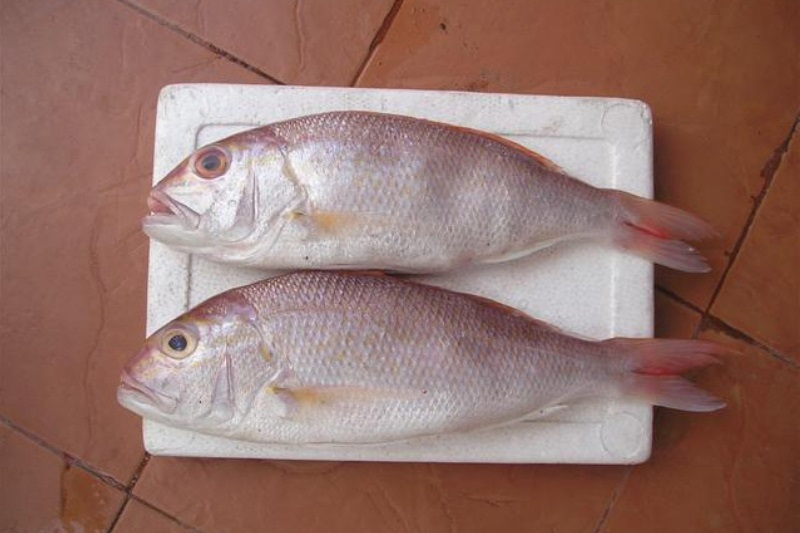Ikan Kerisi: (96, 256, 720, 465), (111, 91, 726, 290)
